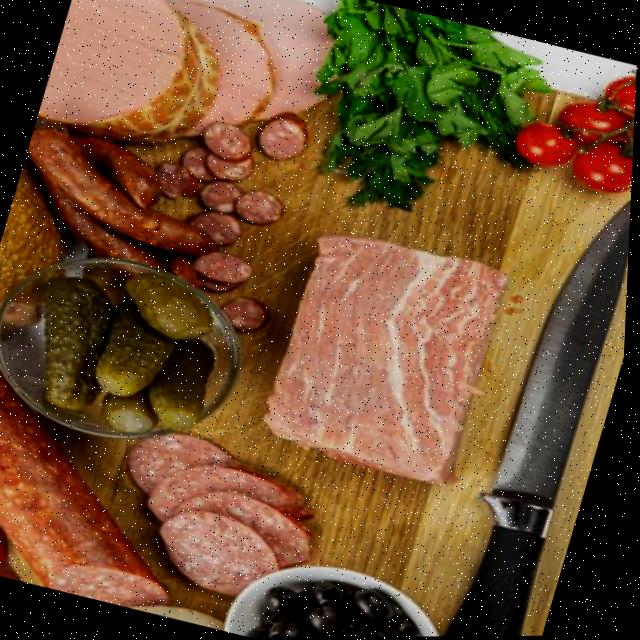knife: (427, 177, 634, 637)
